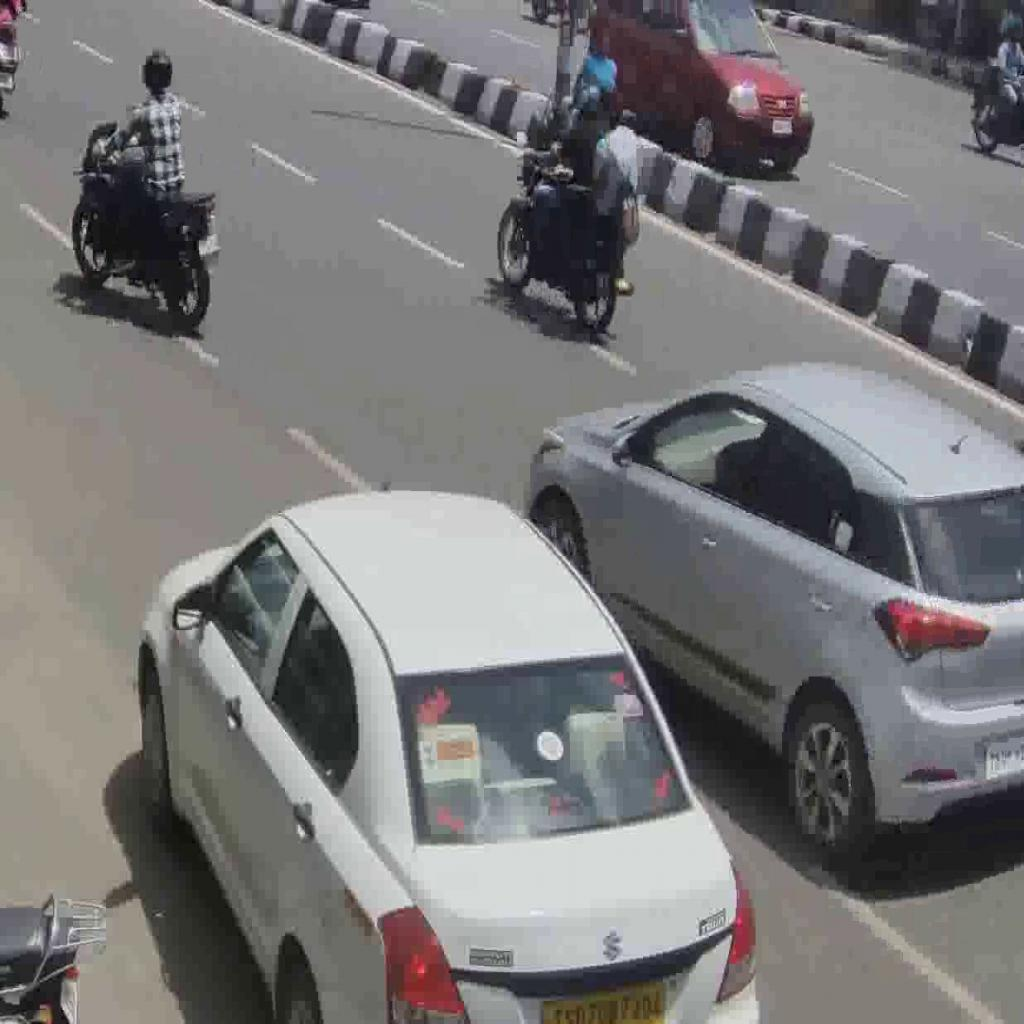helmet: (70, 116, 224, 334), (494, 143, 635, 337)
